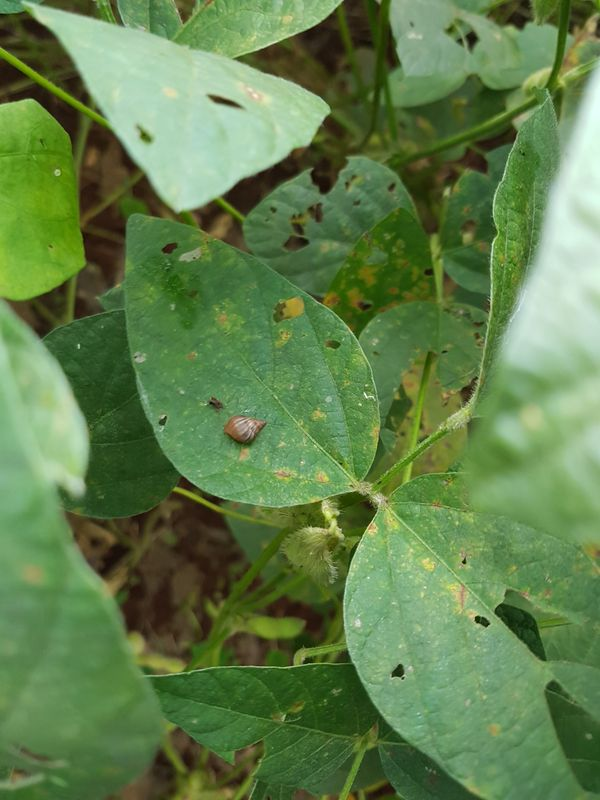Gastropoda: (214, 406, 273, 453)
